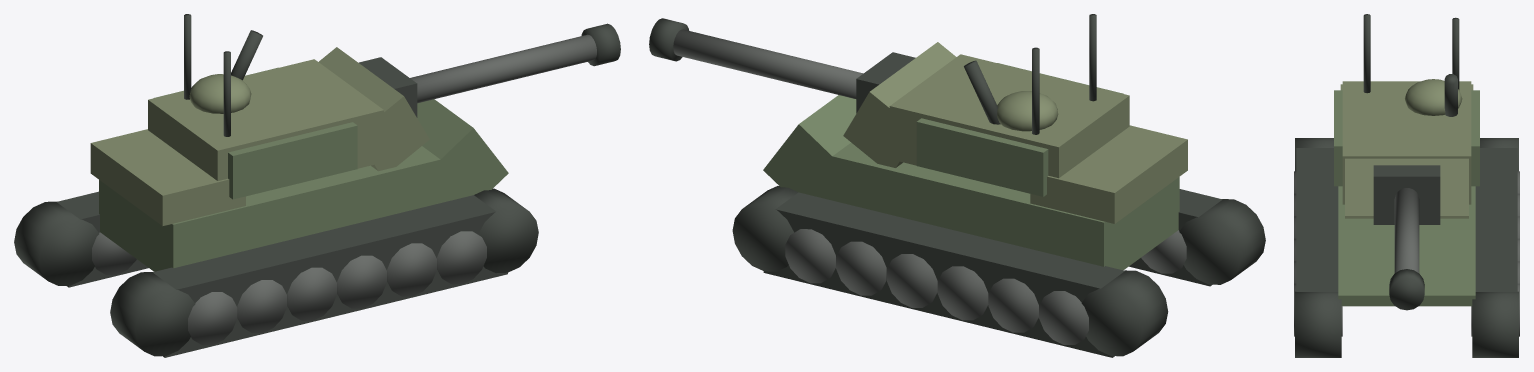
The model's file is tank.glb.
3 views of the same model, side by side, from view 1: azimuth 30°, elevation 25°; view 2: azimuth 150°, elevation 25°; view 3: azimuth 270°, elevation 25° (orthographic). The views are drawn at different scales.
Parts seen in each view (by area): view 1: tank; view 2: tank; view 3: tank.
Boxes of the visible parts, x1,y1,x2,y2 form: tank: (14, 14, 620, 357); tank: (649, 14, 1265, 357); tank: (1294, 14, 1519, 357).
Bounding box in the file's own units: 0.258 × 0.116 × 0.102.
